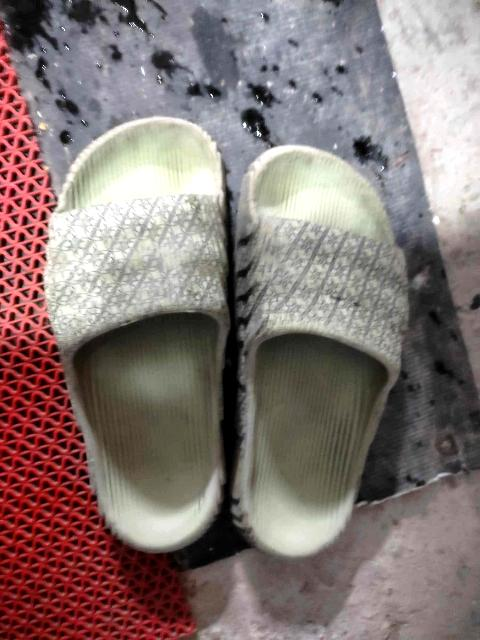sandal: (0, 132, 435, 592)
